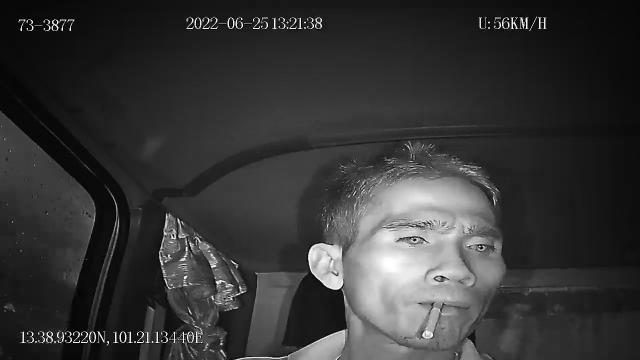SafeDriving: (390, 227, 437, 251), (458, 233, 502, 257)
Smoking: (422, 301, 444, 341)
